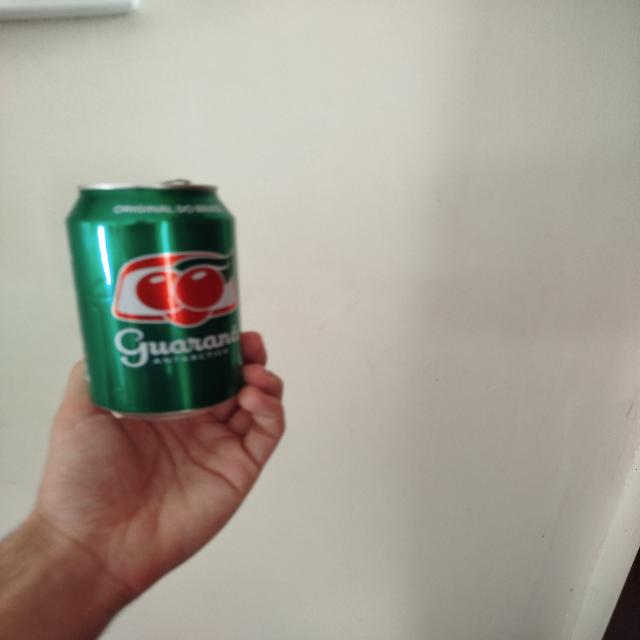Guarana: (64, 183, 246, 418)
